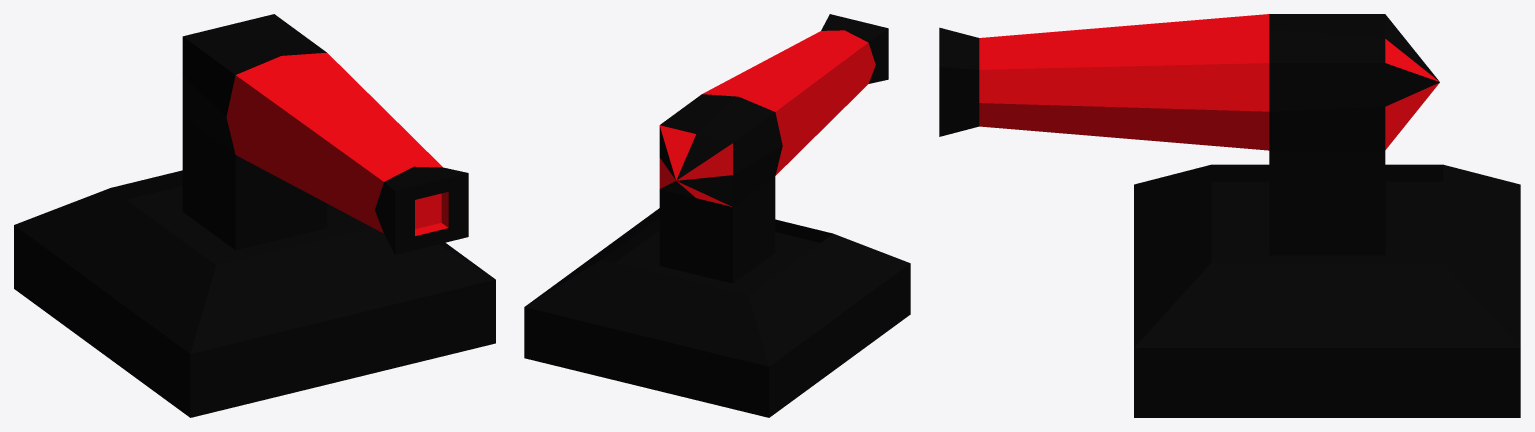
The model's file is FireTower.fbx.
The picture shows the model from 3 angles, left to right: view 1: azimuth 30°, elevation 25°; view 2: azimuth 150°, elevation 25°; view 3: azimuth 270°, elevation 25°; orthographic projection. The views are drawn at different scales.
Parts seen in each view (by area): view 1: Body, Gun; view 2: Body, Gun; view 3: Body, Gun.
Boxes of the visible parts, x1,y1,x2,y2 form: Body: (14, 170, 495, 417); Gun: (182, 14, 468, 254); Body: (524, 208, 910, 417); Gun: (659, 14, 888, 283); Body: (1134, 164, 1520, 417); Gun: (939, 14, 1439, 255).
Size of the model in its own units: 200 by 175 by 301.
